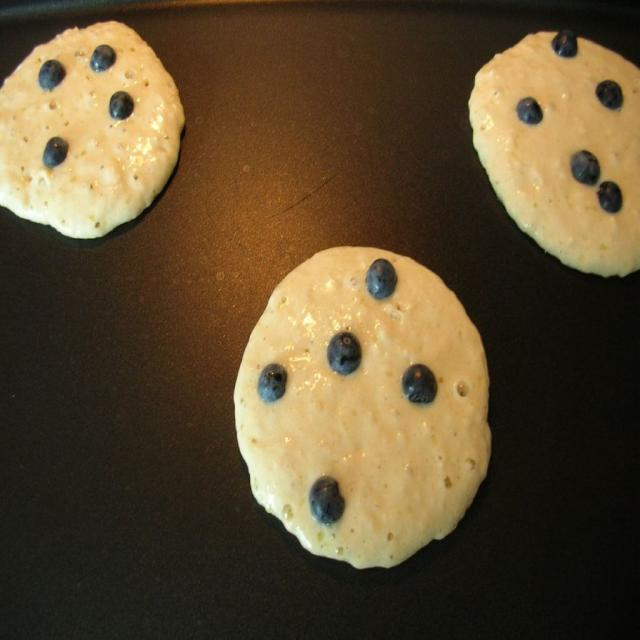Pancake: (233, 245, 490, 571), (467, 28, 640, 273), (0, 19, 185, 239)
